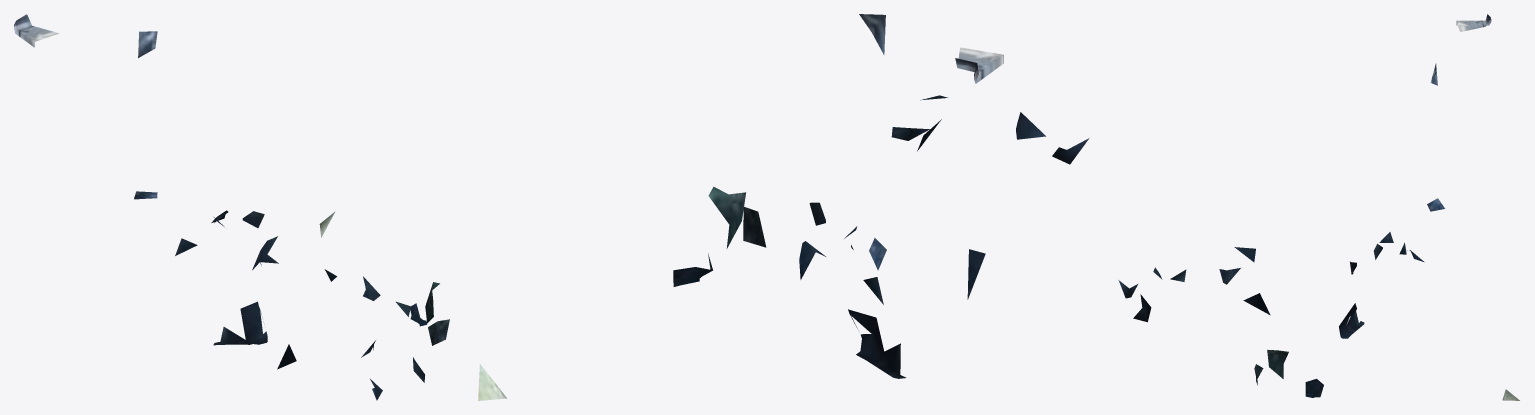
The picture shows the model from 3 angles, left to right: view 1: azimuth 30°, elevation 25°; view 2: azimuth 150°, elevation 25°; view 3: azimuth 270°, elevation 25°; orthographic projection. The views are drawn at different scales.
Visible parts, largest first — view 1: 30436272704361515607_1; view 2: 30436272704361515607_1; view 3: 30436272704361515607_1.
Part boxes in pixels (left/top/right/bottom): 30436272704361515607_1: left=14, top=14, right=449, bottom=400; 30436272704361515607_1: left=478, top=14, right=1089, bottom=400; 30436272704361515607_1: left=1118, top=14, right=1519, bottom=400.
Bounding box in the file's own units: 27.32 × 23.88 × 33.78.
Materials: 1 (1 with a texture image).
